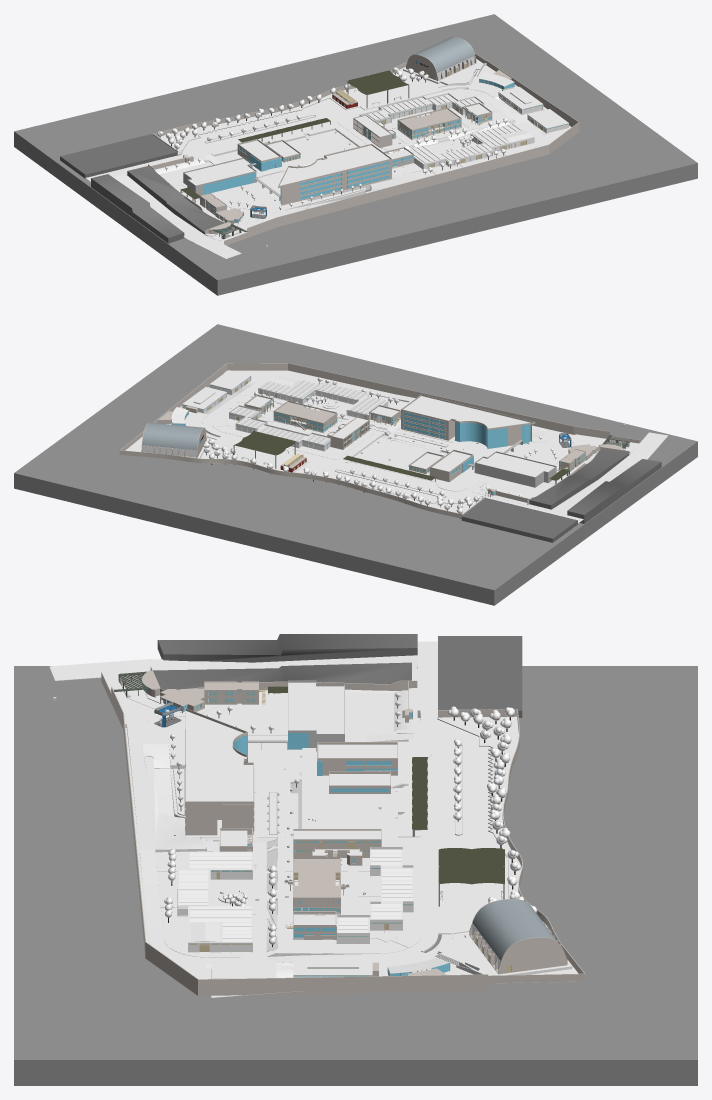
File: tecsup2.glb
The picture shows the model from 3 angles, top to bottom: view 1: azimuth 30°, elevation 25°; view 2: azimuth 150°, elevation 25°; view 3: azimuth 270°, elevation 25°; orthographic projection. The views are drawn at different scales.
Visible parts, largest first — view 1: Box036, Grada, Object002, Object061.001, manzaneo, Arbol 052, Object071, rashel, puerta vidiro, Object161, Rectangle003; view 2: Box036, Grada, Object002, Object061.001, manzaneo, Object071, Arbol 052, Rectangle003, rashel, Object161, puerta vidiro; view 3: Box036, Grada, Object002, Object061.001, manzaneo, Arbol 052, rashel, Object161, puerta vidiro, Rectangle003, ventanas ant, Object071.
Part boxes in pixels (x1=…): Box036: x1=14, y1=14, x2=697, y2=295; Grada: x1=125, y1=62, x2=568, y2=240; Object002: x1=85, y1=56, x2=571, y2=258; Object061.001: x1=148, y1=37, x2=579, y2=245; manzaneo: x1=60, y1=134, x2=224, y2=243; Arbol 052: x1=157, y1=67, x2=507, y2=209; Object071: x1=239, y1=108, x2=491, y2=203; rashel: x1=181, y1=70, x2=408, y2=198; puerta vidiro: x1=201, y1=79, x2=567, y2=237; Object161: x1=414, y1=37, x2=474, y2=72; Rectangle003: x1=178, y1=97, x2=329, y2=200; Box036: x1=14, y1=324, x2=697, y2=605; Grada: x1=140, y1=370, x2=634, y2=510; Object002: x1=122, y1=370, x2=668, y2=523; Object061.001: x1=119, y1=363, x2=639, y2=518; manzaneo: x1=461, y1=449, x2=661, y2=542; Object071: x1=259, y1=400, x2=530, y2=494; Arbol 052: x1=203, y1=377, x2=557, y2=518; Rectangle003: x1=331, y1=440, x2=556, y2=503; rashel: x1=233, y1=431, x2=569, y2=480; Object161: x1=142, y1=422, x2=202, y2=450; puerta vidiro: x1=171, y1=376, x2=629, y2=472; Box036: x1=14, y1=666, x2=697, y2=1085; Grada: x1=121, y1=669, x2=572, y2=978; Object002: x1=49, y1=641, x2=578, y2=997; Object061.001: x1=101, y1=667, x2=585, y2=995; manzaneo: x1=153, y1=634, x2=522, y2=717; Arbol 052: x1=164, y1=693, x2=537, y2=947; rashel: x1=268, y1=686, x2=504, y2=884; Object161: x1=472, y1=899, x2=558, y2=960; puerta vidiro: x1=142, y1=684, x2=449, y2=976; Rectangle003: x1=248, y1=680, x2=508, y2=858; ventanas ant: x1=189, y1=690, x2=511, y2=976; Object071: x1=233, y1=712, x2=412, y2=937.
Size of the model in its own units: 640 by 59.55 by 463.
